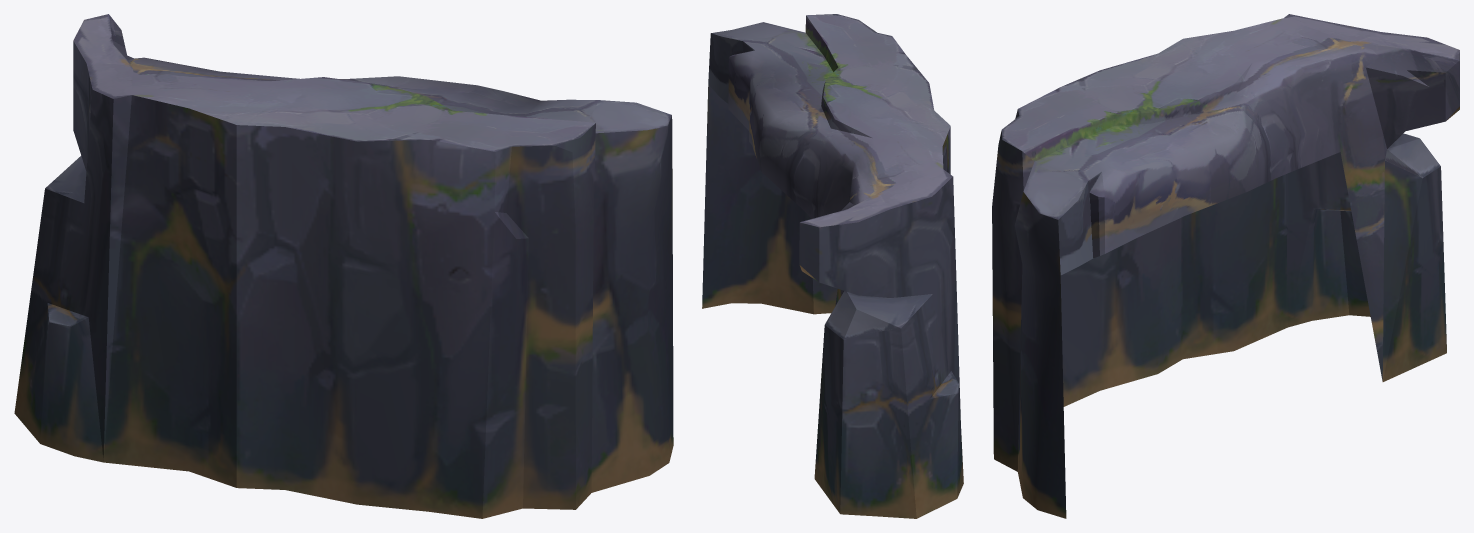
The model's file is scene_malujiakuangdao_shan06_2.FBX.
3 views of the same model, side by side, from view 1: azimuth 30°, elevation 25°; view 2: azimuth 150°, elevation 25°; view 3: azimuth 270°, elevation 25° (orthographic). The views are drawn at different scales.
Visible parts, largest first — view 1: scene_malujiakuangdao_shan06_2; view 2: scene_malujiakuangdao_shan06_2; view 3: scene_malujiakuangdao_shan06_2.
Boxes of the visible parts, x1,y1,x2,y2 form: scene_malujiakuangdao_shan06_2: [14, 14, 673, 518]; scene_malujiakuangdao_shan06_2: [702, 14, 963, 518]; scene_malujiakuangdao_shan06_2: [992, 14, 1459, 518].
Size of the model in its own units: 832 by 620 by 807.
